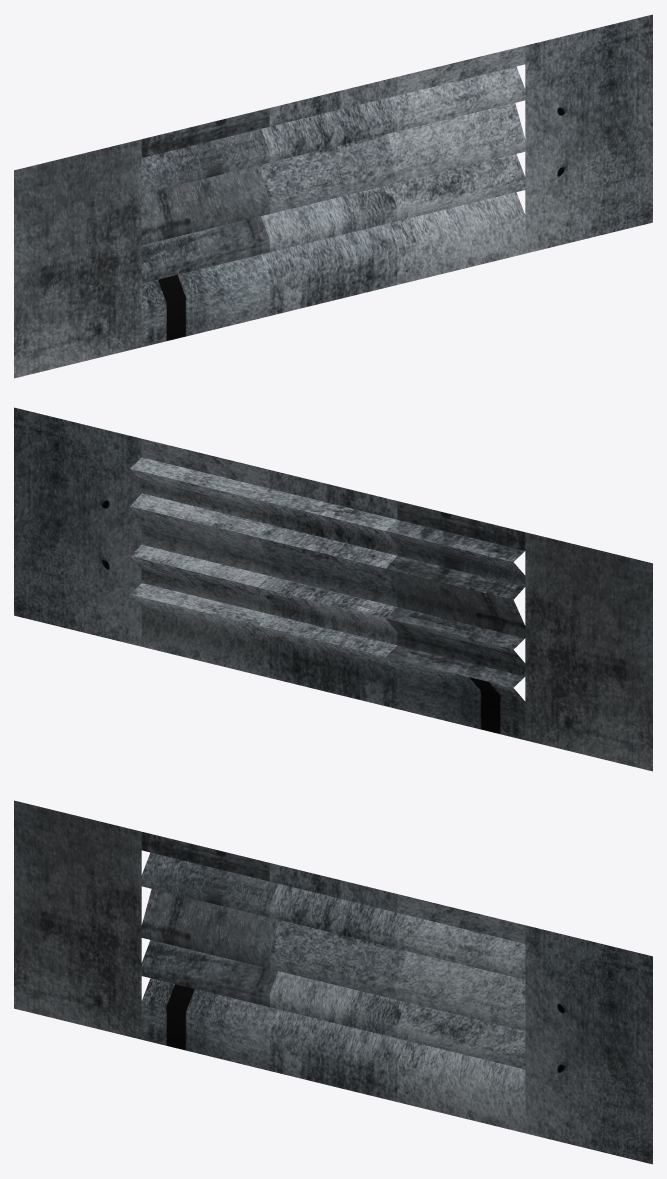
File: store_76.obj
3 views of the same model, one above another, from view 1: azimuth 30°, elevation 25°; view 2: azimuth 150°, elevation 25°; view 3: azimuth 330°, elevation 25° (orthographic).
Size of the model in its own units: 203 by 63.27 by 6.39.
